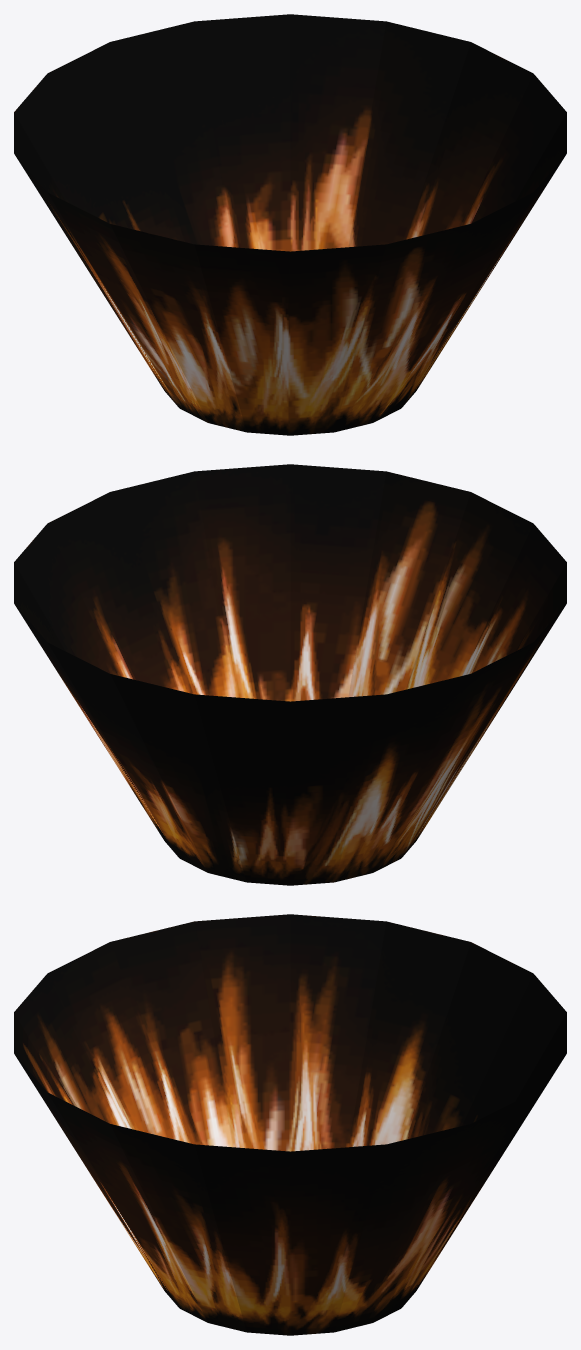
3 renders of one model, top to bottom at view 1: azimuth 30°, elevation 25°; view 2: azimuth 150°, elevation 25°; view 3: azimuth 270°, elevation 25°, orthographic.
Parts seen in each view (by area): view 1: W01; view 2: W01; view 3: W01.
Part boxes in pixels (bbox=[...]): W01: bbox=[14, 14, 566, 435]; W01: bbox=[14, 464, 566, 885]; W01: bbox=[14, 914, 566, 1335].
Size of the model in its own units: 59.25 by 28.96 by 58.35.
